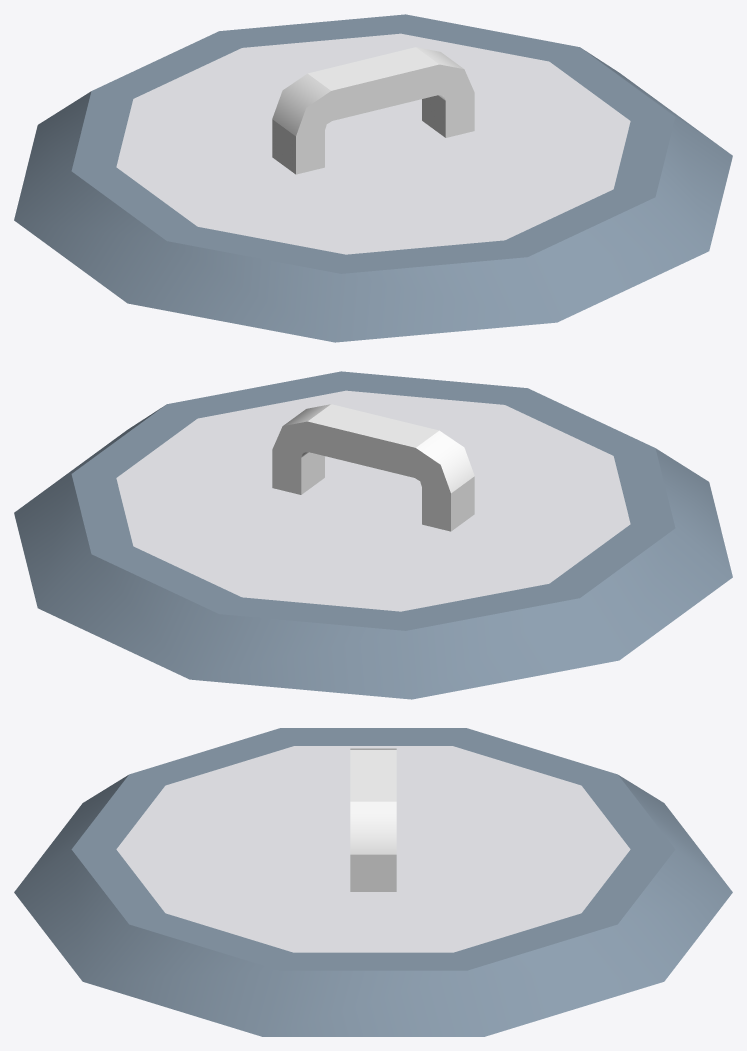
File: fryingPanLid.dae
3 renders of one model, top to bottom at view 1: azimuth 30°, elevation 25°; view 2: azimuth 150°, elevation 25°; view 3: azimuth 270°, elevation 25°, orthographic. The views are drawn at different scales.
Visible parts, largest first — view 1: fryingPanLid; view 2: fryingPanLid; view 3: fryingPanLid.
Part boxes in pixels (bbox=[...]): fryingPanLid: bbox=[14, 14, 732, 342]; fryingPanLid: bbox=[14, 371, 732, 699]; fryingPanLid: bbox=[14, 728, 732, 1036].
Bounding box in the file's own units: 0.5767 × 0.1084 × 0.6064.
